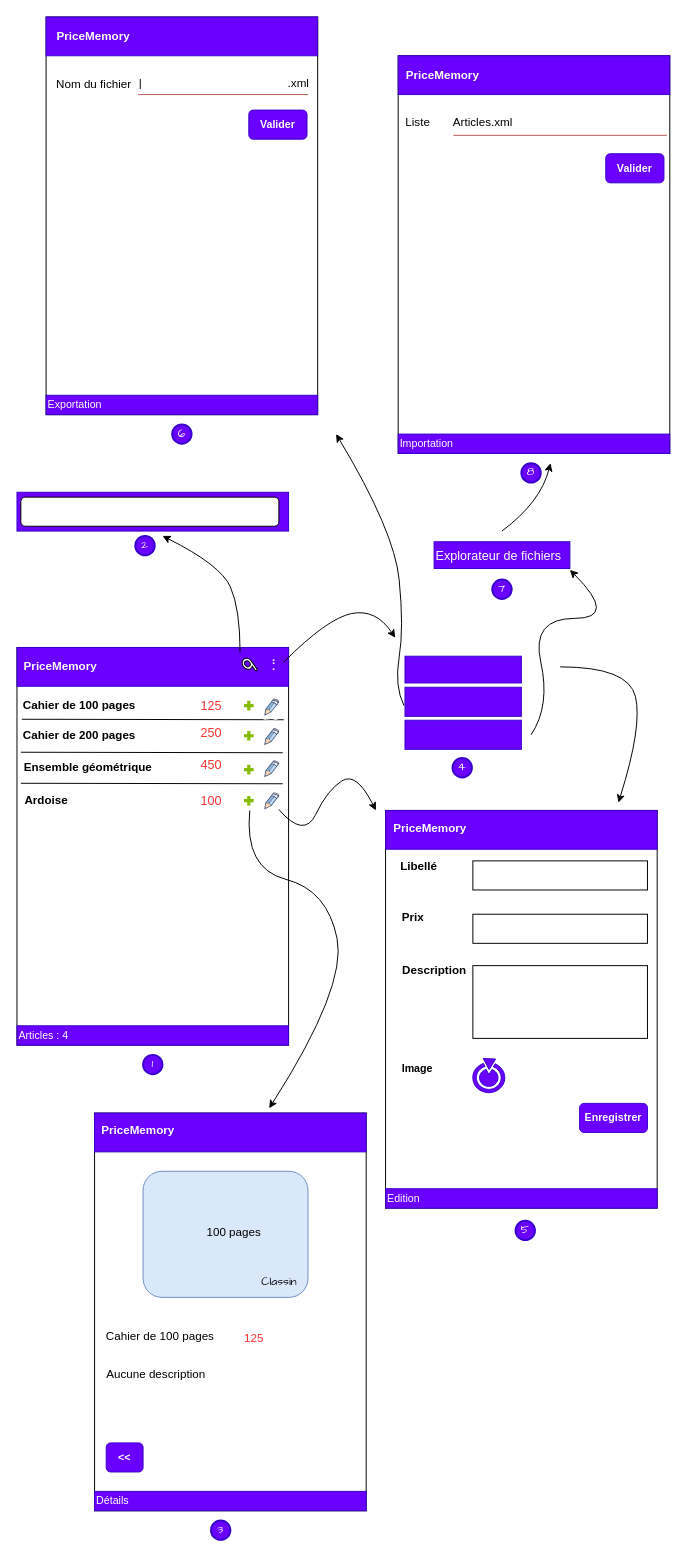
Some shapes in this 687 by 1558 pixel diagram are drawn without their labels. The shapes that lost their labels are listed below. From the top down, each one's centre as x and y in pixels, then its label:
the point at 149,511: | Rechercher
the point at 462,669: Nouvel article
the point at 462,701: Exporter la liste
the point at 462,734: Importer une liste
